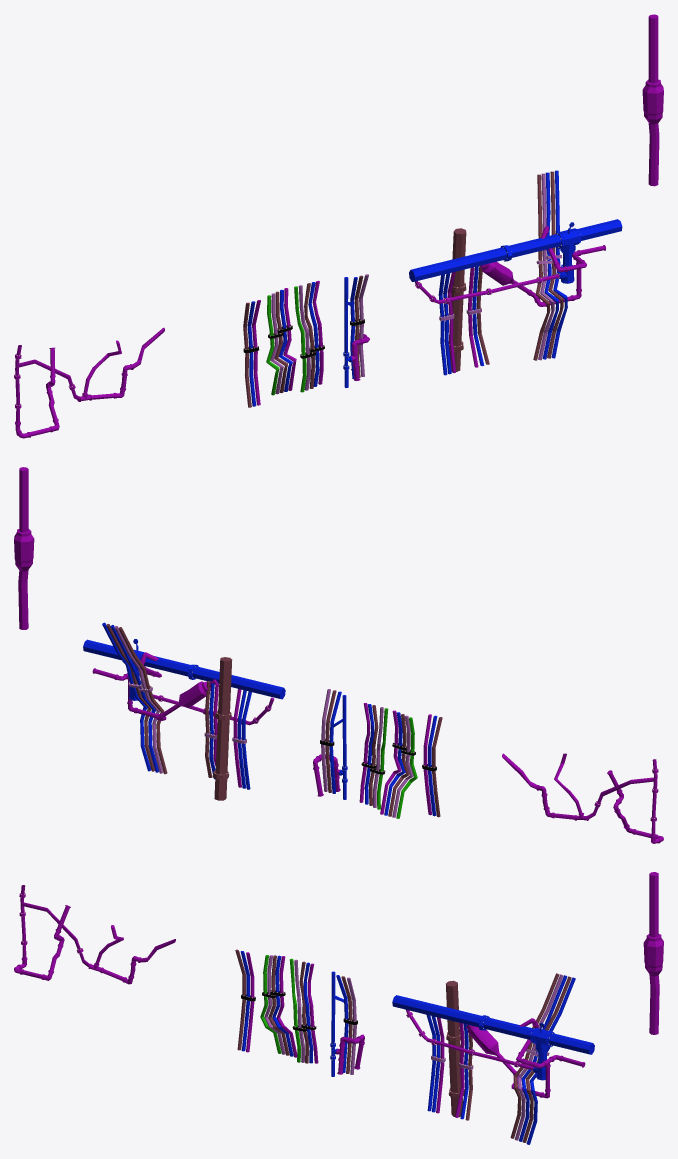
The model's file is pipewalls_game.fbx.
The picture shows the model from 3 angles, top to bottom: view 1: azimuth 30°, elevation 25°; view 2: azimuth 150°, elevation 25°; view 3: azimuth 330°, elevation 25°; orthographic projection. The views are drawn at different scales.
Parts seen in each view (by area): view 1: PipeMess, HangingPpe, 5Pipe.002, 5Pipe, Cylinder.008, Pipewall1, 3Pipe.005; view 2: PipeMess, Pipewall1, 5Pipe, HangingPpe, 5Pipe.002, Cylinder.008, 3Pipe.005; view 3: PipeMess, HangingPpe, Pipewall1, 5Pipe, 5Pipe.002, Cylinder.008, 3Pipe.005.
Boxes of the visible parts, x1,y1,x2,y2 form: PipeMess: [409, 170, 622, 375]; HangingPpe: [14, 327, 164, 438]; 5Pipe.002: [294, 280, 324, 392]; 5Pipe: [266, 288, 296, 395]; Cylinder.008: [642, 14, 663, 186]; Pipewall1: [343, 274, 369, 387]; 3Pipe.005: [243, 300, 260, 407]; PipeMess: [83, 622, 285, 800]; Pipewall1: [313, 689, 347, 799]; 5Pipe: [380, 710, 417, 818]; HangingPpe: [502, 753, 663, 843]; 5Pipe.002: [359, 703, 388, 809]; Cylinder.008: [14, 467, 34, 629]; 3Pipe.005: [422, 714, 442, 817]; PipeMess: [392, 973, 594, 1144]; HangingPpe: [14, 885, 175, 984]; Pipewall1: [330, 971, 364, 1076]; 5Pipe: [260, 955, 297, 1057]; 5Pipe.002: [289, 958, 318, 1063]; Cylinder.008: [643, 872, 663, 1034]; 3Pipe.005: [235, 949, 255, 1052].
Bounding box in the file's own units: 215 × 2390 × 1037.
